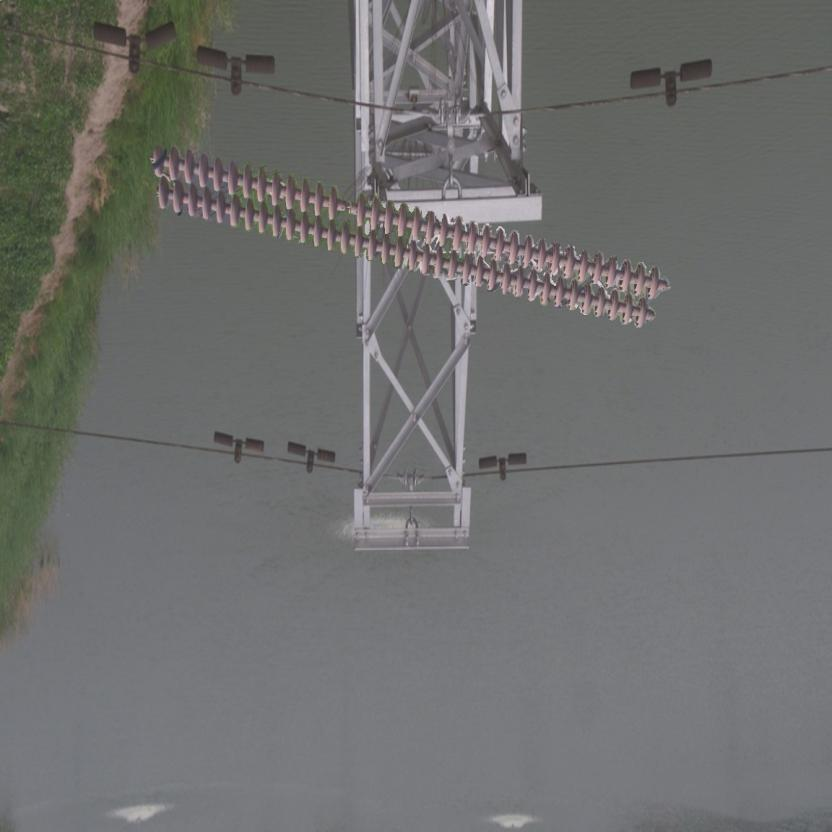defect: (324, 185, 370, 229)
